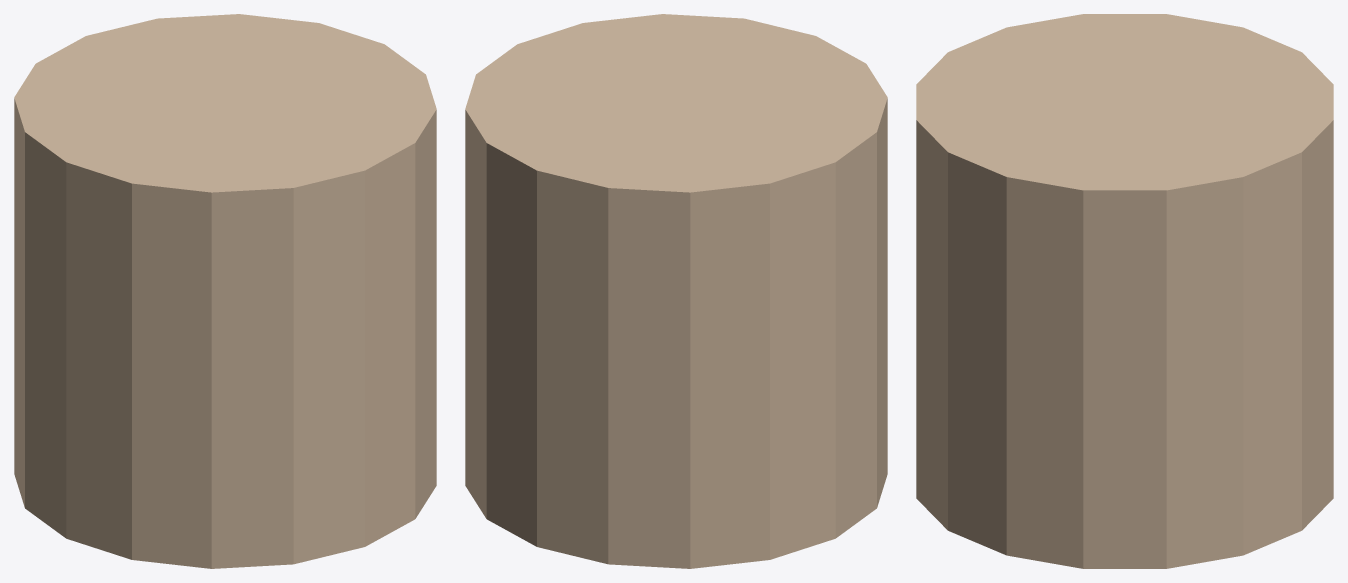
File: vega_crew_s2_1_collider.obj
3 views of the same model, side by side, from view 1: azimuth 30°, elevation 25°; view 2: azimuth 150°, elevation 25°; view 3: azimuth 270°, elevation 25° (orthographic).
Parts seen in each view (by area): view 1: collider; view 2: collider; view 3: collider.
Boxes of the visible parts, x1,y1,x2,y2 form: collider: (14, 14, 436, 568); collider: (465, 14, 887, 568); collider: (916, 14, 1333, 568).
Size of the model in its own units: 2.5 by 2.5 by 2.5.
